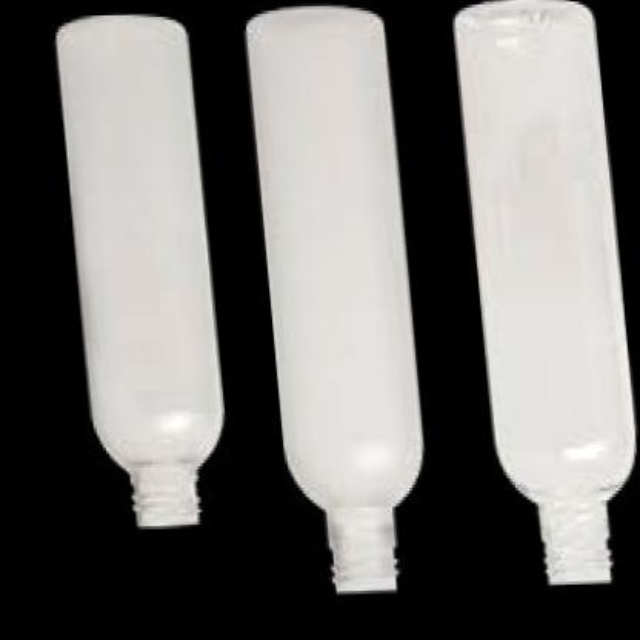trash: (455, 0, 634, 583), (246, 6, 422, 591), (57, 15, 222, 525)
